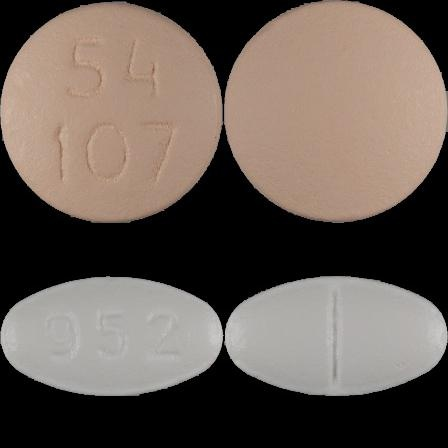55154-4960: (0, 0, 224, 224)
